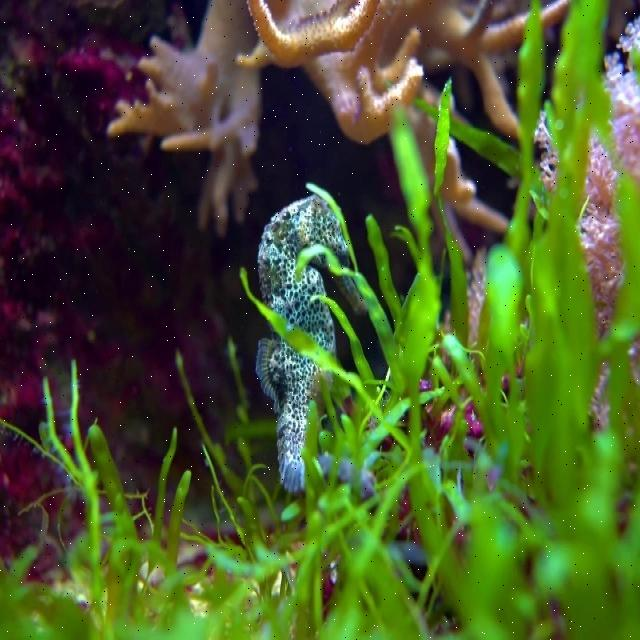aquatic plants: (0, 1, 639, 639)
fish: (258, 193, 354, 489)
reefs: (110, 1, 534, 234)
